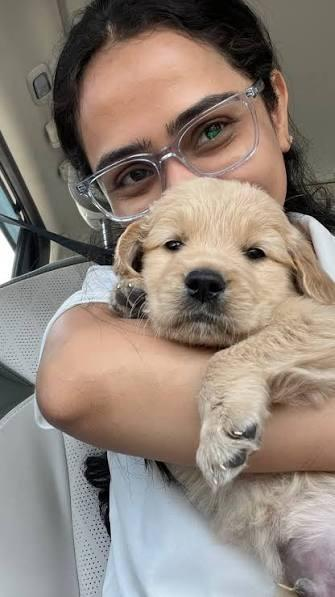non-dog: (30, 0, 335, 595)
puppy-dog: (108, 177, 335, 597)
